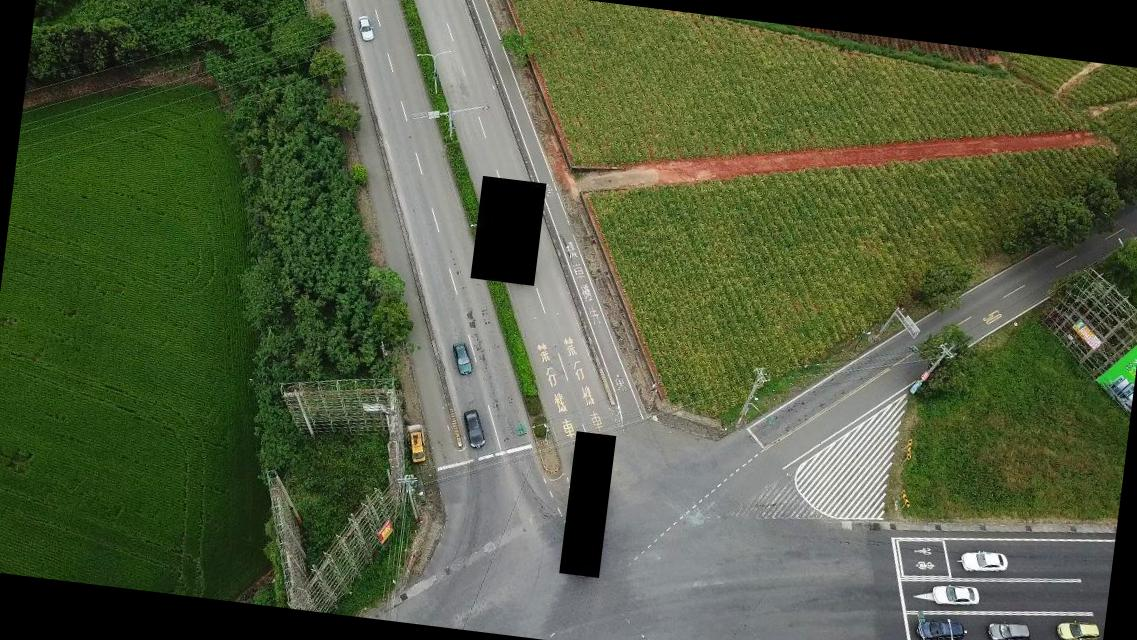vehicle: (930, 579, 982, 608), (960, 548, 1009, 578), (458, 407, 490, 451), (913, 613, 966, 639), (448, 339, 476, 378), (1053, 619, 1101, 639), (404, 428, 430, 462), (987, 620, 1032, 639), (354, 12, 376, 42)
